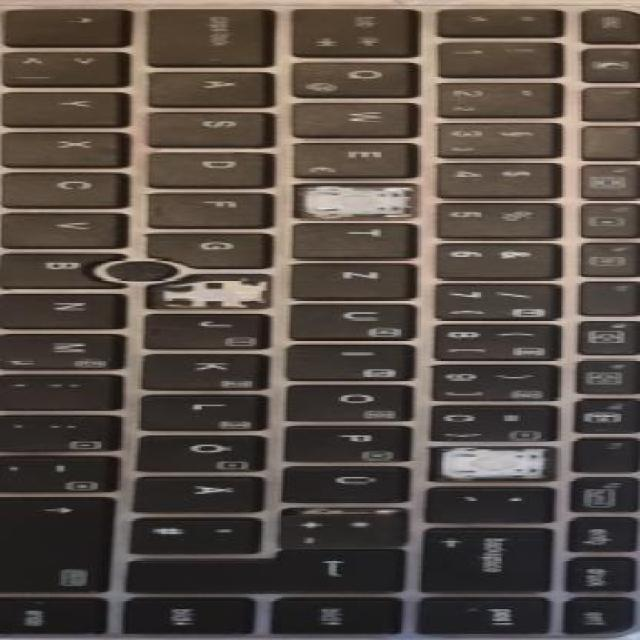Keyboard problems: (429, 448, 555, 480), (148, 275, 269, 308), (295, 186, 417, 217)
